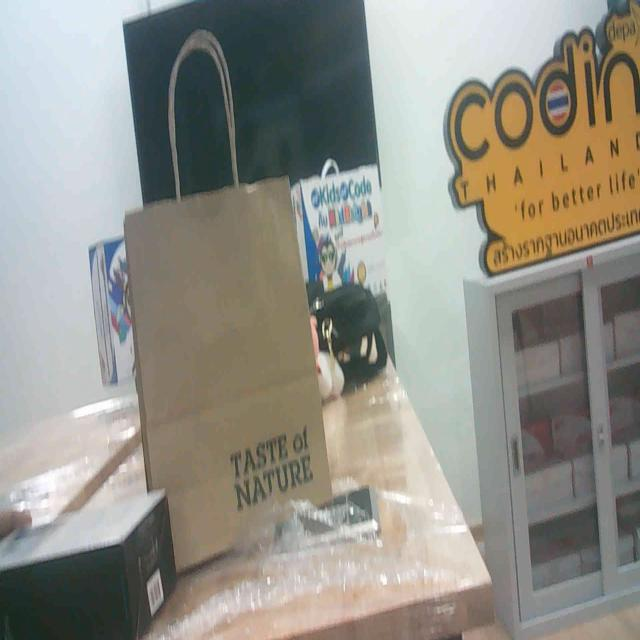bag: (148, 186, 334, 528)
